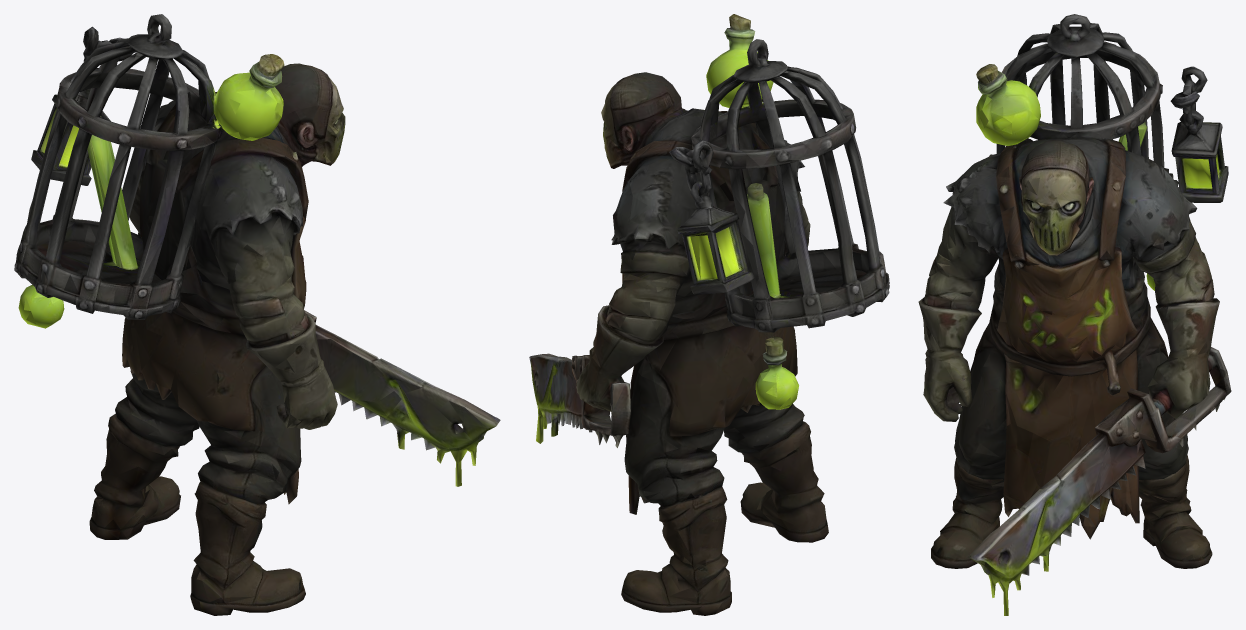
The model's file is butcher.glb.
3 views of the same model, side by side, from view 1: azimuth 30°, elevation 25°; view 2: azimuth 150°, elevation 25°; view 3: azimuth 270°, elevation 25° (orthographic). The views are drawn at different scales.
Parts seen in each view (by area): view 1: tripo_node_1c2e0f33-cb23-44c7-9e8d-5ef5f4eca03b; view 2: tripo_node_1c2e0f33-cb23-44c7-9e8d-5ef5f4eca03b; view 3: tripo_node_1c2e0f33-cb23-44c7-9e8d-5ef5f4eca03b.
Part boxes in pixels (x1,y1,x2,y2): tripo_node_1c2e0f33-cb23-44c7-9e8d-5ef5f4eca03b: [14, 14, 500, 615]; tripo_node_1c2e0f33-cb23-44c7-9e8d-5ef5f4eca03b: [529, 14, 889, 615]; tripo_node_1c2e0f33-cb23-44c7-9e8d-5ef5f4eca03b: [918, 14, 1231, 615].
Size of the model in its own units: 0.7733 by 0.9799 by 0.5317.
1 material, 1 textured.
